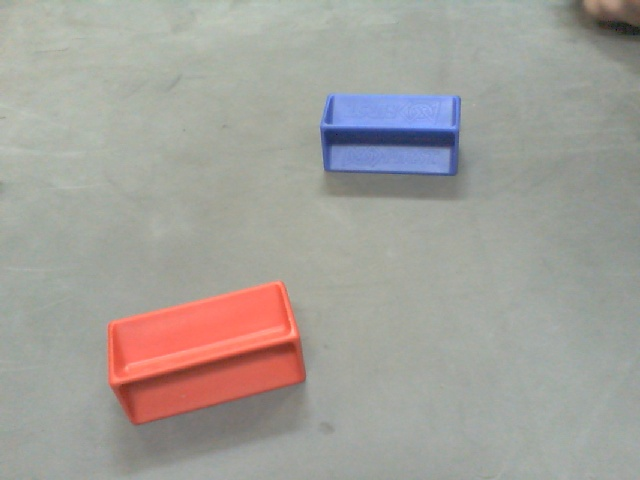BlueSample: (321, 93, 460, 174)
RedSample: (103, 277, 308, 427)
